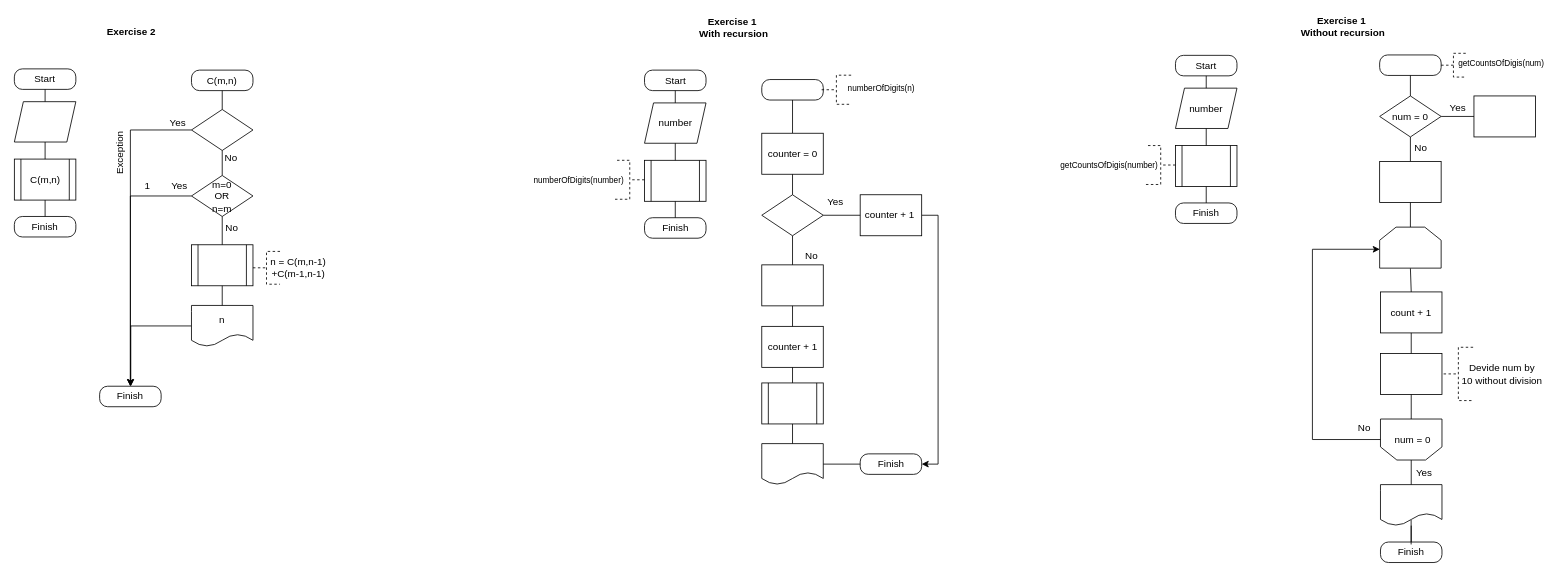
This 1565x576 diagram has some shape labels left out. The centre of each missing label's shape, as x and y in pixels:
"count" goes at [1411,505].
"count = 0" goes at [1410,182].
"count = 1" goes at [1504,116].
"counter" goes at [792,464].
"counter = counter + numOD(n)" goes at [792,403].
"m, n" goes at [45,121].
"n < 10" goes at [792,215].
"n = n/10" goes at [792,285].
"n<m OR m<0" goes at [222,129].
"num /= 10" goes at [1411,373].
